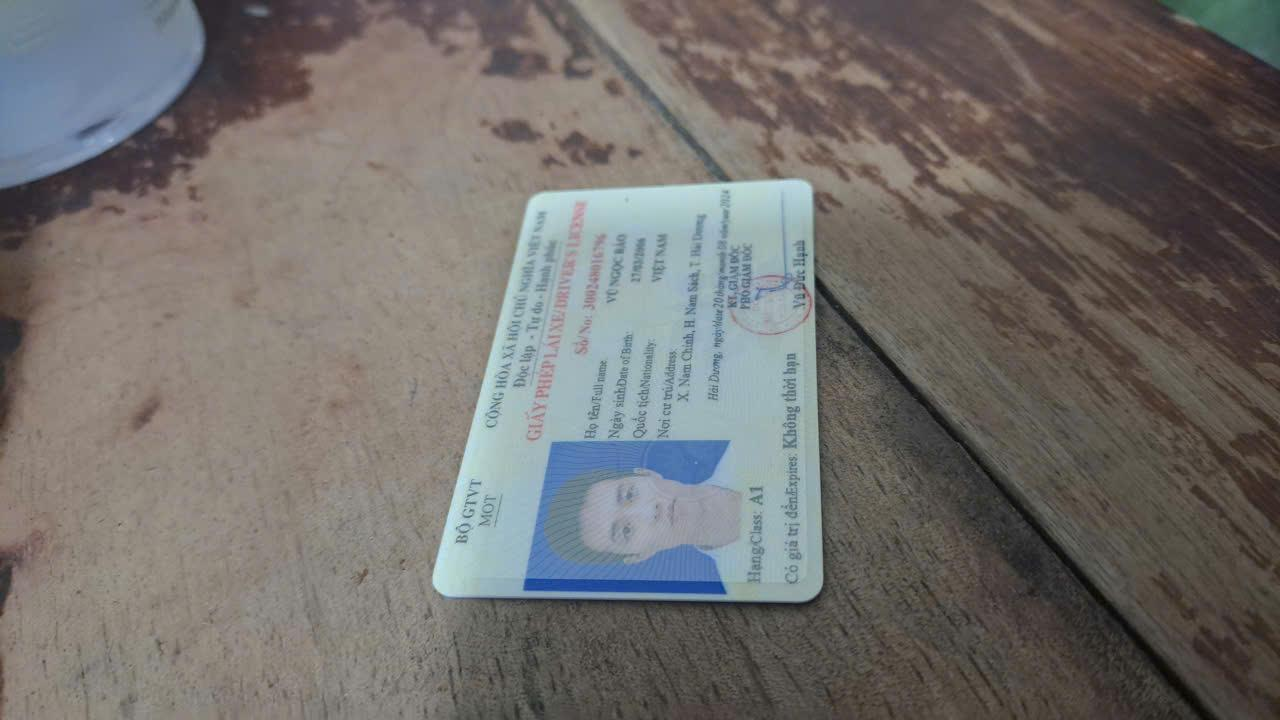gplx: (426, 142, 827, 610)
